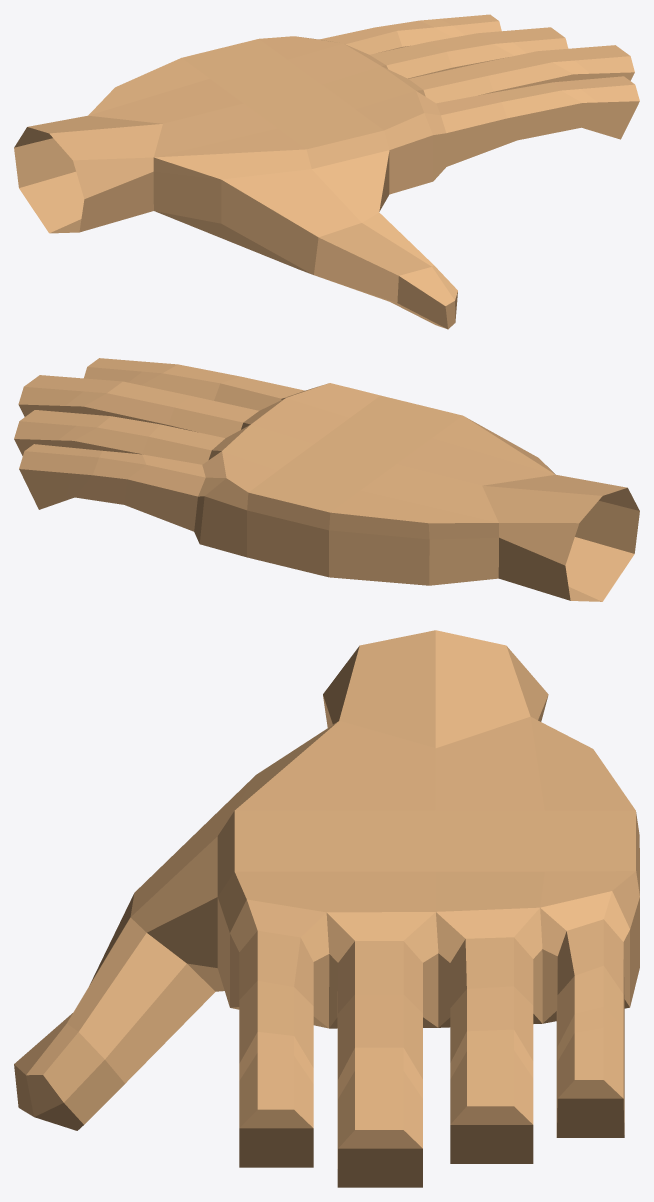
The model's file is manoizquierda.fbx.
The picture shows the model from 3 angles, top to bottom: view 1: azimuth 30°, elevation 25°; view 2: azimuth 150°, elevation 25°; view 3: azimuth 270°, elevation 25°; orthographic projection. The views are drawn at different scales.
Parts seen in each view (by area): view 1: ExploradorCuerpo.002; view 2: ExploradorCuerpo.002; view 3: ExploradorCuerpo.002.
Part boxes in pixels (x1,y1,x2,y2): ExploradorCuerpo.002: (14, 14, 639, 329); ExploradorCuerpo.002: (14, 358, 639, 601); ExploradorCuerpo.002: (14, 630, 639, 1187).
Bounding box in the file's own units: 89.64 × 27.1 × 54.45.
